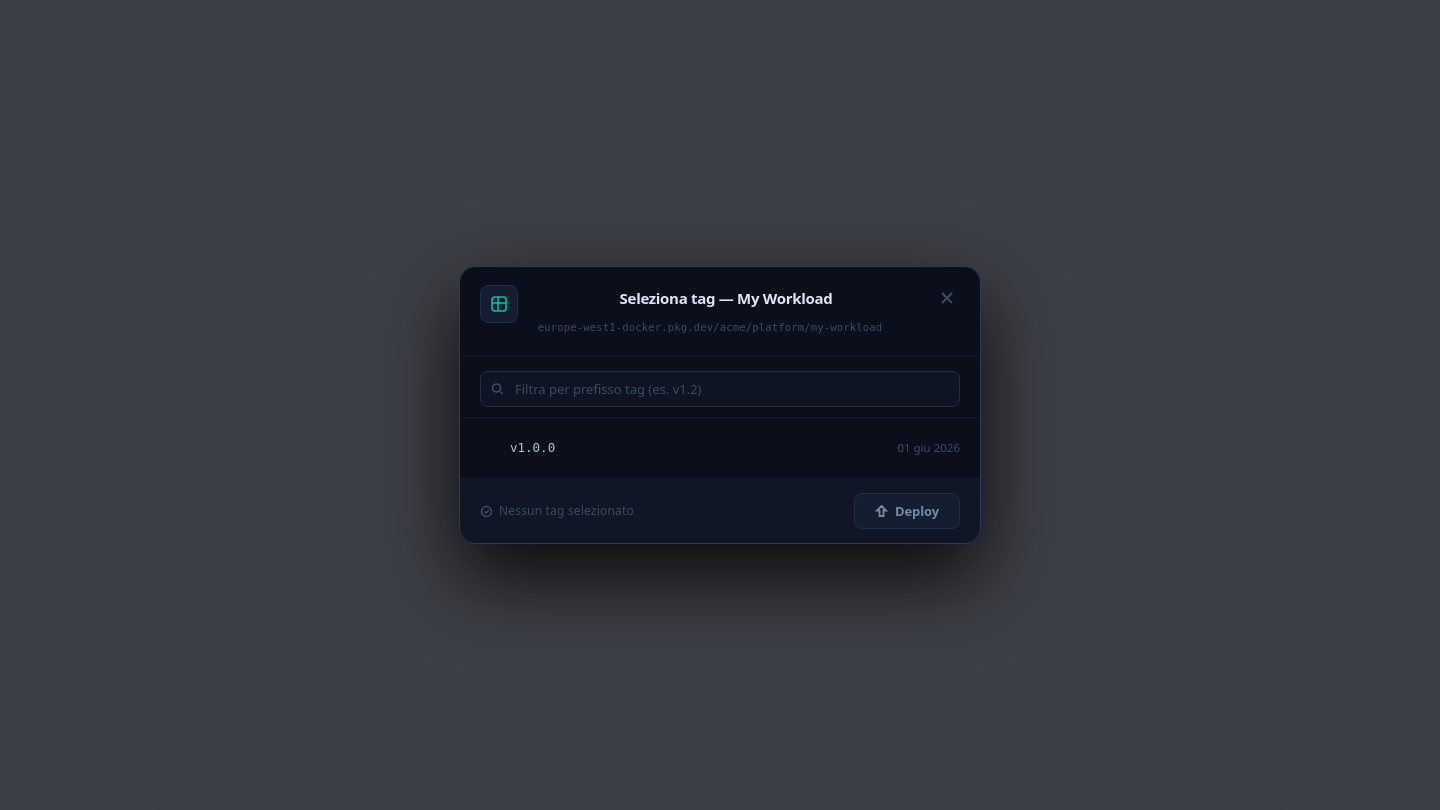
DeployDialog › enables Deploy button after tag selection
The image size is (1440, 810).
Expected: the button "Deploy" is disabled, [854,493,960,529]
Click the text "v1.0.0": (533, 448) [510,440,555,455]
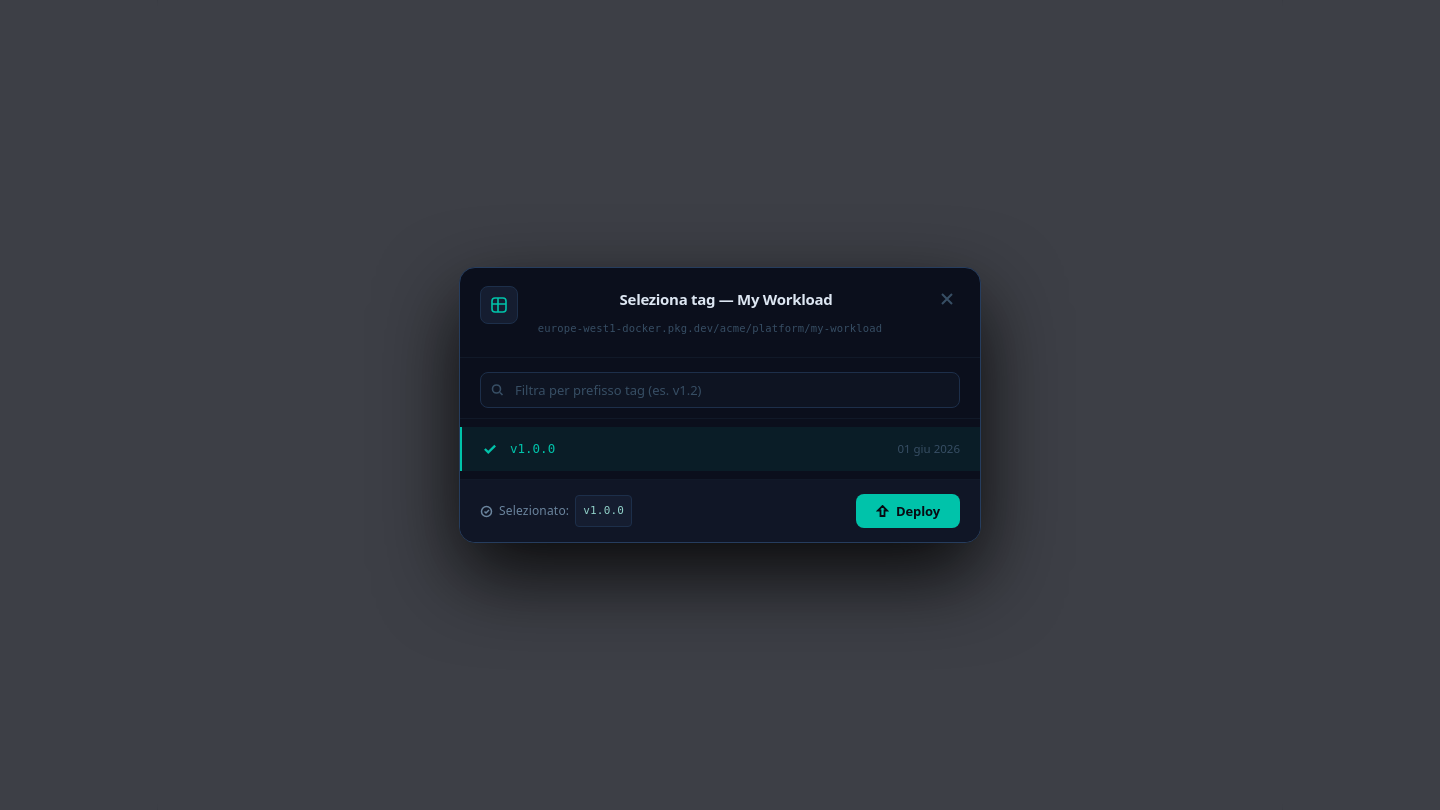
Expected: the button "Deploy" is enabled, [856,494,960,528]
